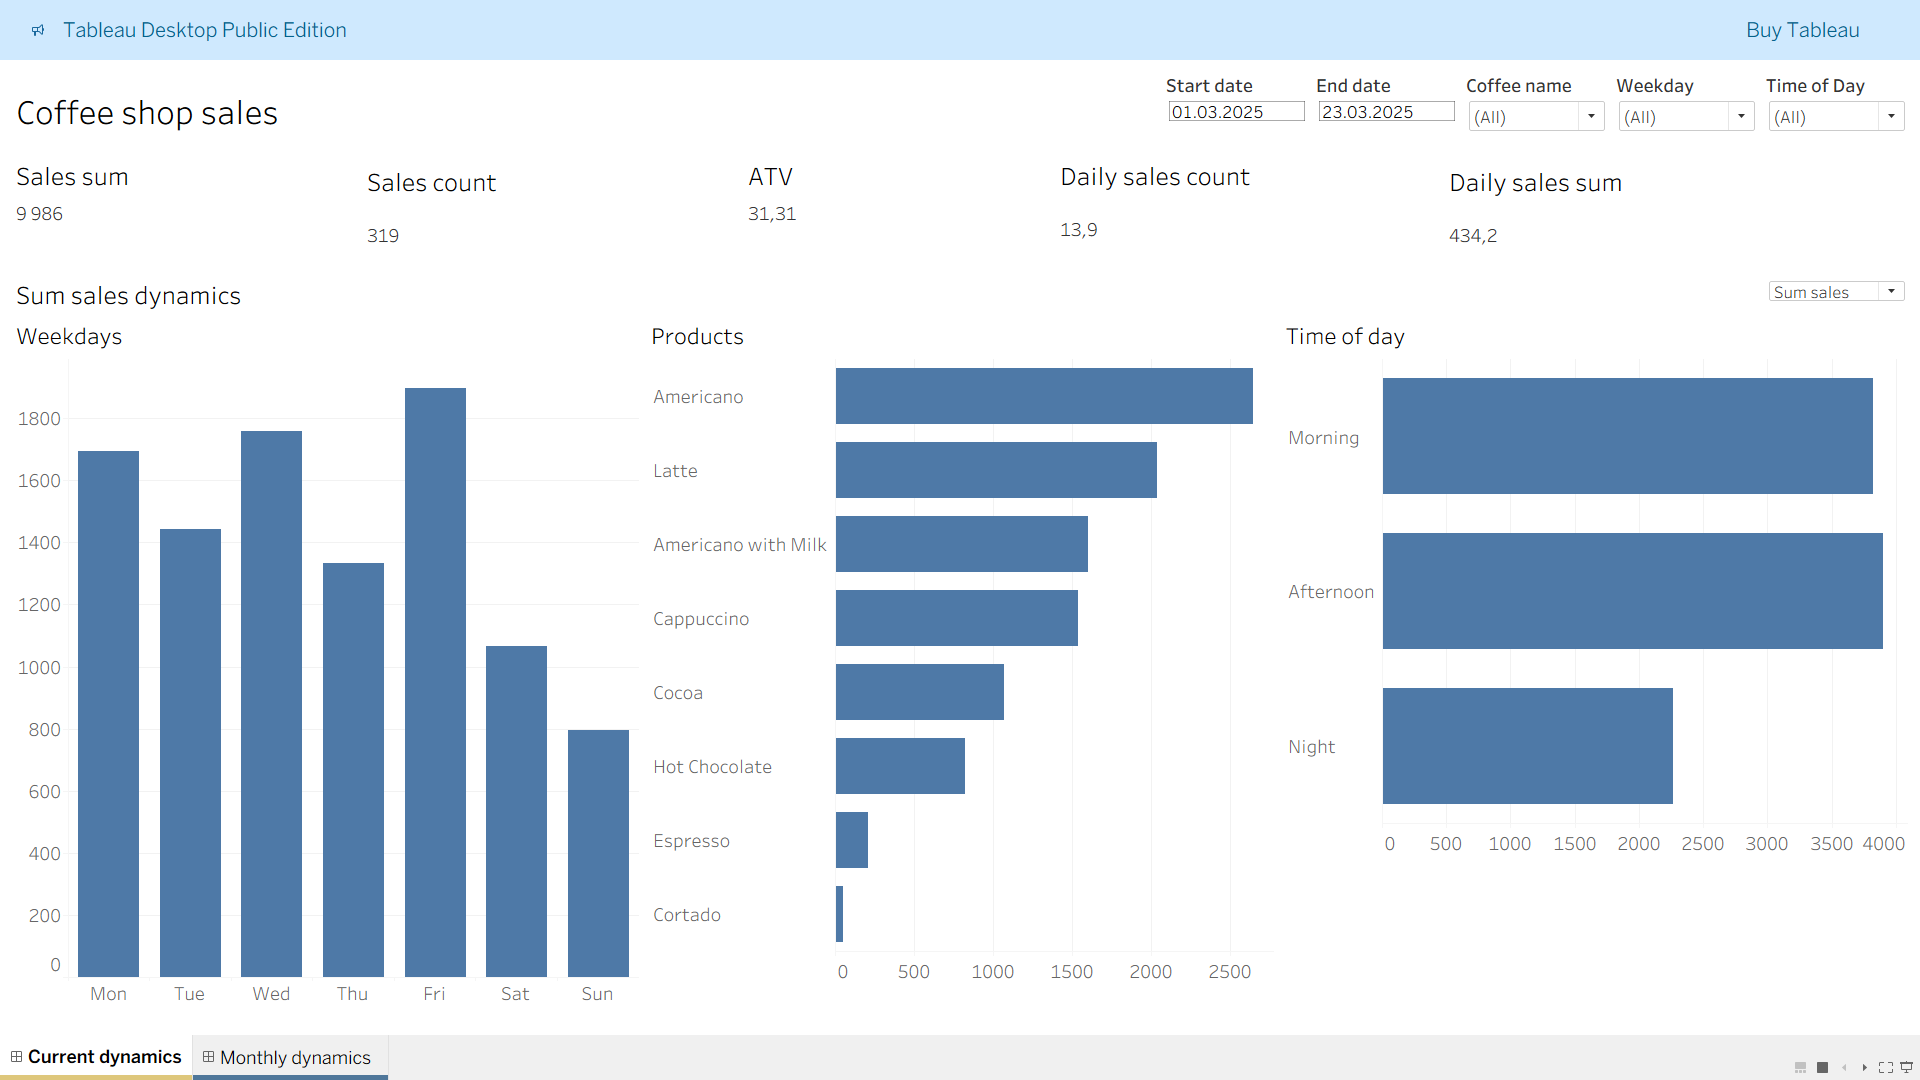

What the dashboard file says about the page in this screenshot:
{"tool":"tableau","page":{"name":"Current dynamics","canvas":[1000,1000],"units":"permille","ordinal":0},"visuals":[{"type":"text","box":[5.5,10.6,476.8,88.4]},{"type":"parameter","param":"[Parameters].[Parameter 1]","box":[482.3,10.6,102.5,88.4]},{"type":"parameter","param":"[Parameters].[Start date (copy)_399413050693062658]","box":[584.7,10.6,102.5,88.4]},{"type":"filter","title":"Avg money per drink","param":"[federated.0eo47hy0bv3t661cgwpq90oafx3s].[none:coffee_name:nk]","box":[687.2,10.6,102.5,88.4]},{"type":"filter","title":"Avg money per drink","param":"[federated.0eo47hy0bv3t661cgwpq90oafx3s].[none:Weekday:nk]","box":[789.6,10.6,102.5,88.4]},{"type":"filter","title":"Avg money per drink","param":"[federated.0eo47hy0bv3t661cgwpq90oafx3s].[none:Time_of_Day:nk]","box":[892.1,10.6,102.5,88.4]},{"type":"text","box":[5.5,98.9,182.4,55.4]},{"type":"text","box":[187.8,98.9,198.1,54.8]},{"type":"text","box":[385.9,98.9,161.9,55.4]},{"type":"text","box":[547.8,98.9,202.2,55.4]},{"type":"text","box":[750,98.9,244.5,54.8]},{"type":"worksheet","title":"Cnt sales","mark":"Text","box":[187.8,153.7,198.1,54.8]},{"type":"worksheet","title":"Daily sales SUM","mark":"Text","box":[750,153.7,244.5,54.8]},{"type":"worksheet","title":"Sum sales","mark":"Text","box":[5.5,154.3,182.4,43.5]},{"type":"worksheet","title":"ATV","mark":"Text","box":[385.9,154.3,161.9,43.5]},{"type":"worksheet","title":"Daily sales count","mark":"Text","box":[547.8,154.3,202.2,54.1]},{"type":"text","box":[5.5,224.3,886.6,55.4]},{"type":"parameter","param":"[Parameters].[Parameter 2]","box":[892.1,224.3,102.5,55.4]},{"type":"text","box":[5.5,279.7,329.9,51.5]},{"type":"text","box":[335.4,279.7,329.9,51.5]},{"type":"text","box":[665.3,279.7,329.2,42.2]},{"type":"worksheet","title":"Avg money by time of day","mark":"Bar","rows":["Time_of_Day"],"cols":["Calculation_399413050697142279"],"box":[665.3,321.9,329.2,667.6]},{"type":"worksheet","title":"Sum money by weekday","mark":"Bar","rows":["Calculation_399413050697142279"],"cols":["Weekday"],"box":[5.5,331.1,329.9,658.3]},{"type":"worksheet","title":"Avg money per drink","mark":"Bar","rows":["coffee_name"],"cols":["Calculation_399413050697142279"],"box":[335.4,331.1,329.9,658.2]}]}

Visuals, with their boxes on the dashboard's canvas, which has no fixed pixel size, in thousandths of its width and height (x1, y1, x2, y2). These are canvas units, not pixel positions in the 1920x1080 screenshot, which may show the page scaled, cropped or inside an application window:
text: <region>6, 11, 482, 99</region>
parameter: <region>482, 11, 585, 99</region>
parameter: <region>585, 11, 687, 99</region>
"Avg money per drink" filter: <region>687, 11, 790, 99</region>
"Avg money per drink" filter: <region>790, 11, 892, 99</region>
"Avg money per drink" filter: <region>892, 11, 995, 99</region>
text: <region>6, 99, 188, 154</region>
text: <region>188, 99, 386, 154</region>
text: <region>386, 99, 548, 154</region>
text: <region>548, 99, 750, 154</region>
text: <region>750, 99, 994, 154</region>
"Cnt sales" worksheet (Text marks): <region>188, 154, 386, 208</region>
"Daily sales SUM" worksheet (Text marks): <region>750, 154, 994, 208</region>
"Sum sales" worksheet (Text marks): <region>6, 154, 188, 198</region>
"ATV" worksheet (Text marks): <region>386, 154, 548, 198</region>
"Daily sales count" worksheet (Text marks): <region>548, 154, 750, 208</region>
text: <region>6, 224, 892, 280</region>
parameter: <region>892, 224, 995, 280</region>
text: <region>6, 280, 335, 331</region>
text: <region>335, 280, 665, 331</region>
text: <region>665, 280, 994, 322</region>
"Avg money by time of day" worksheet (Bar marks): <region>665, 322, 994, 990</region>
"Sum money by weekday" worksheet (Bar marks): <region>6, 331, 335, 989</region>
"Avg money per drink" worksheet (Bar marks): <region>335, 331, 665, 989</region>
